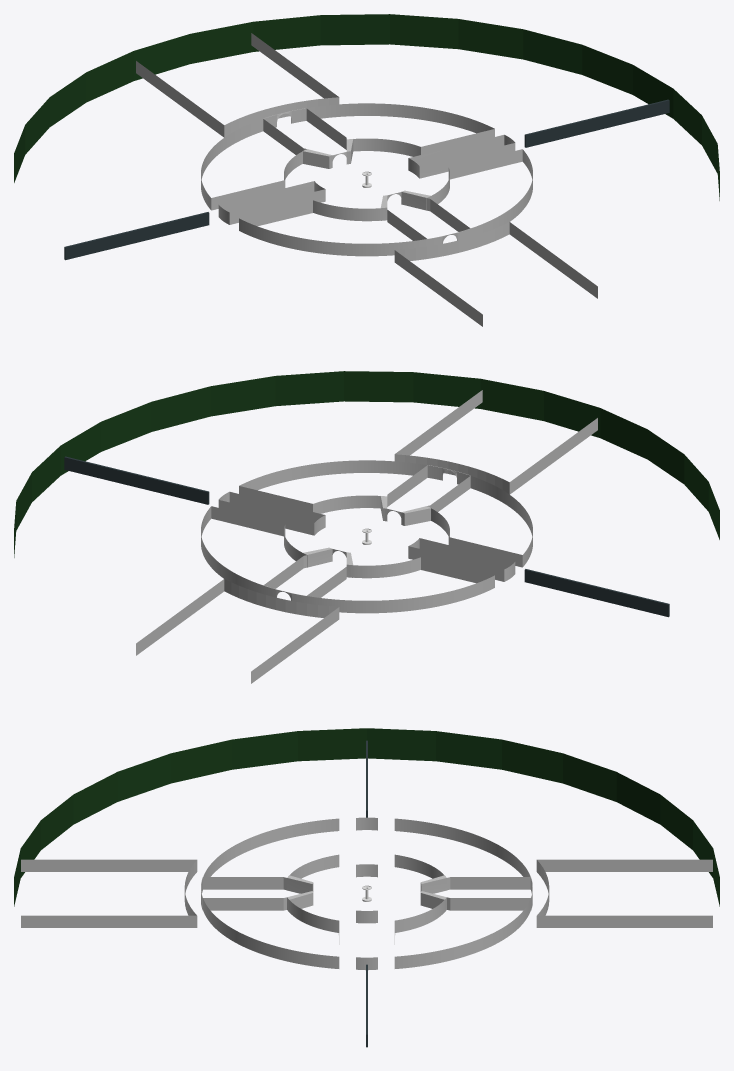
File: fish_environment_1_3.glb
3 views of the same model, one above another, from view 1: azimuth 30°, elevation 25°; view 2: azimuth 150°, elevation 25°; view 3: azimuth 270°, elevation 25° (orthographic).
Parts seen in each view (by area): view 1: boundary.001, storage.004, storage.005, big tank walks.001, big tank thick wall.001, storage.007, storage.006, parallel wall.002, parallel wall.003, big_tank_divider.002, big_tank_divider.003; view 2: boundary.001, storage.006, storage.007, big tank thick wall.001, big tank walks.001, storage.005, storage.004, parallel wall.002, parallel wall.003, big_tank_divider.002, big_tank_divider.003; view 3: boundary.001, big tank thick wall.001, big tank walks.001, storage.005, storage.007, storage.006, storage.004, parallel wall.003, parallel wall.002.
Boxes of the visible parts, x1,y1,x2,y2 form: boundary.001: (14,14,719,200); storage.004: (239,200,427,256); storage.005: (306,103,494,156); big tank walks.001: (394,222,597,326); big tank thick wall.001: (136,33,339,137); storage.007: (427,149,532,236); storage.006: (201,119,306,210); parallel wall.002: (408,134,515,178); parallel wall.003: (218,181,325,224); big_tank_divider.002: (524,99,669,147); big_tank_divider.003: (64,212,209,260); boundary.001: (14,371,719,557); storage.006: (306,557,494,613); storage.007: (239,460,427,513); big tank thick wall.001: (136,579,339,683); big tank walks.001: (394,390,597,494); storage.005: (201,506,306,593); storage.004: (427,476,532,567); parallel wall.002: (218,491,325,535); parallel wall.003: (408,538,515,581); big_tank_divider.002: (64,456,209,504); big_tank_divider.003: (524,569,669,617); boundary.001: (14,728,719,906); big tank thick wall.001: (536,859,712,927); big tank walks.001: (21,859,197,927); storage.005: (394,897,530,968); storage.007: (203,897,339,968); storage.006: (394,818,530,890); storage.004: (203,818,339,890); parallel wall.003: (356,817,377,877); parallel wall.002: (356,910,377,970).
Size of the model in its own units: 128 by 6.04 by 128.
